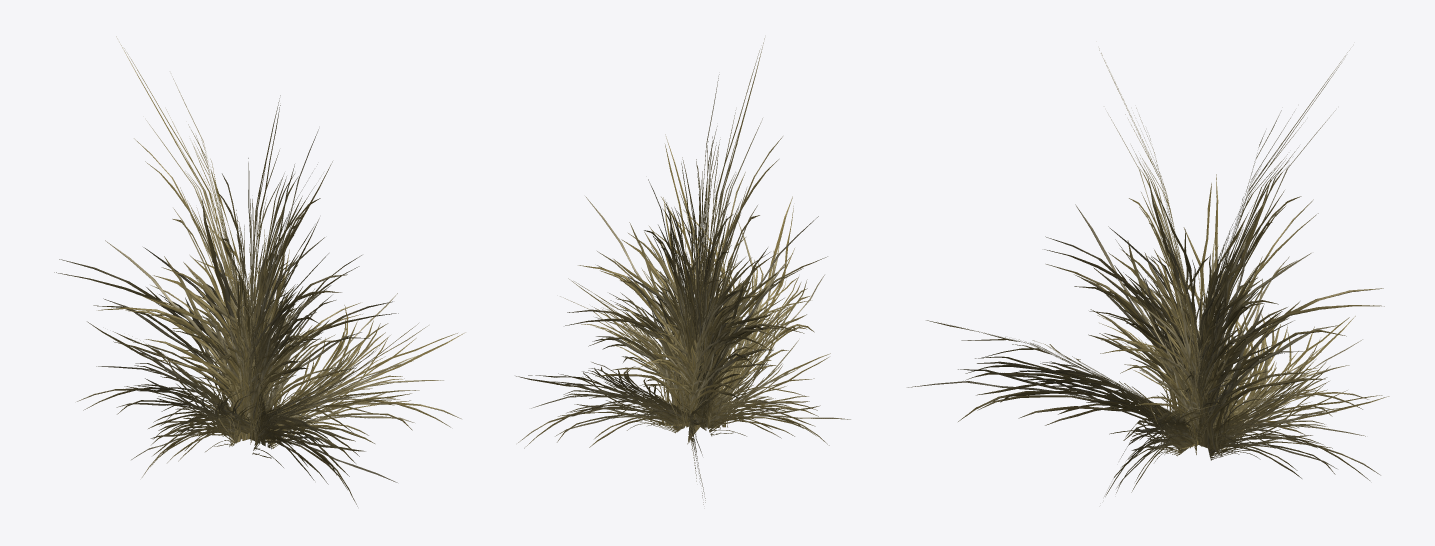
The model's file is SM_Grass_01.fbx.
The picture shows the model from 3 angles, left to right: view 1: azimuth 30°, elevation 25°; view 2: azimuth 150°, elevation 25°; view 3: azimuth 270°, elevation 25°; orthographic projection. The views are drawn at different scales.
Parts seen in each view (by area): view 1: SM_Grass_01_LOD0; view 2: SM_Grass_01_LOD0; view 3: SM_Grass_01_LOD0.
Boxes of the visible parts, left/top/right/bottom form: SM_Grass_01_LOD0: left=54, top=36, right=465, bottom=506; SM_Grass_01_LOD0: left=516, top=38, right=850, bottom=504; SM_Grass_01_LOD0: left=907, top=48, right=1389, bottom=496.
Size of the model in its own units: 24.86 by 30.05 by 28.25.
